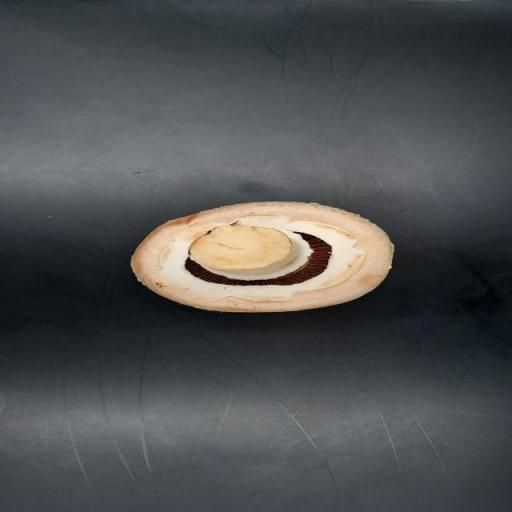mushroom: (129, 199, 401, 315)
